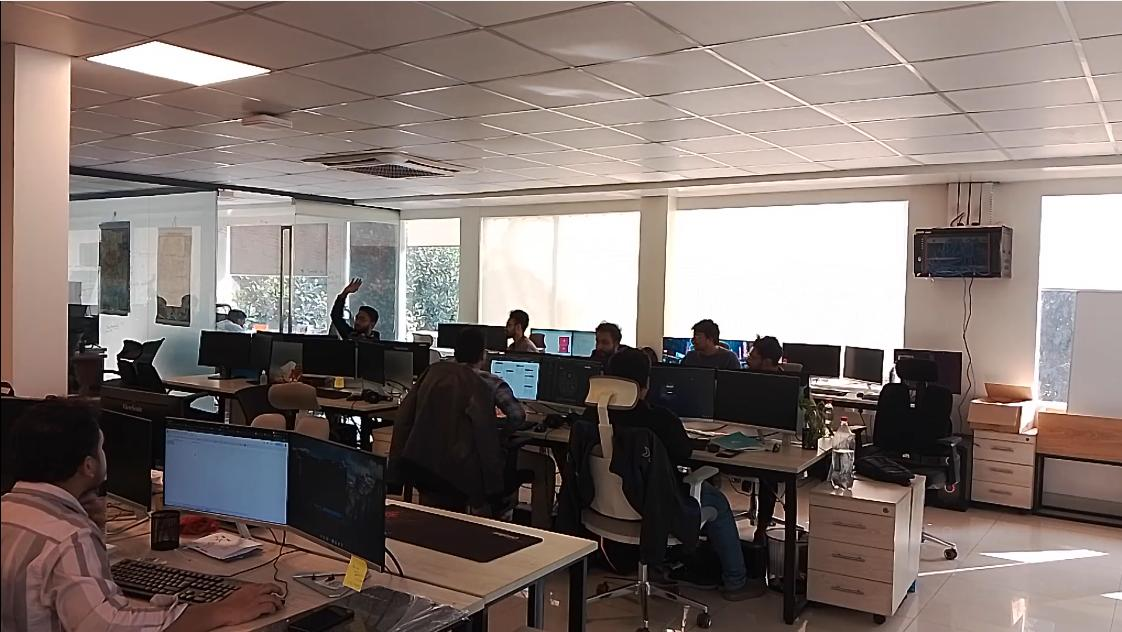hand: (320, 257, 368, 333)
